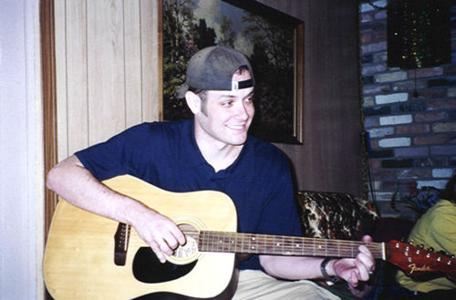person: (47, 46, 378, 300)
